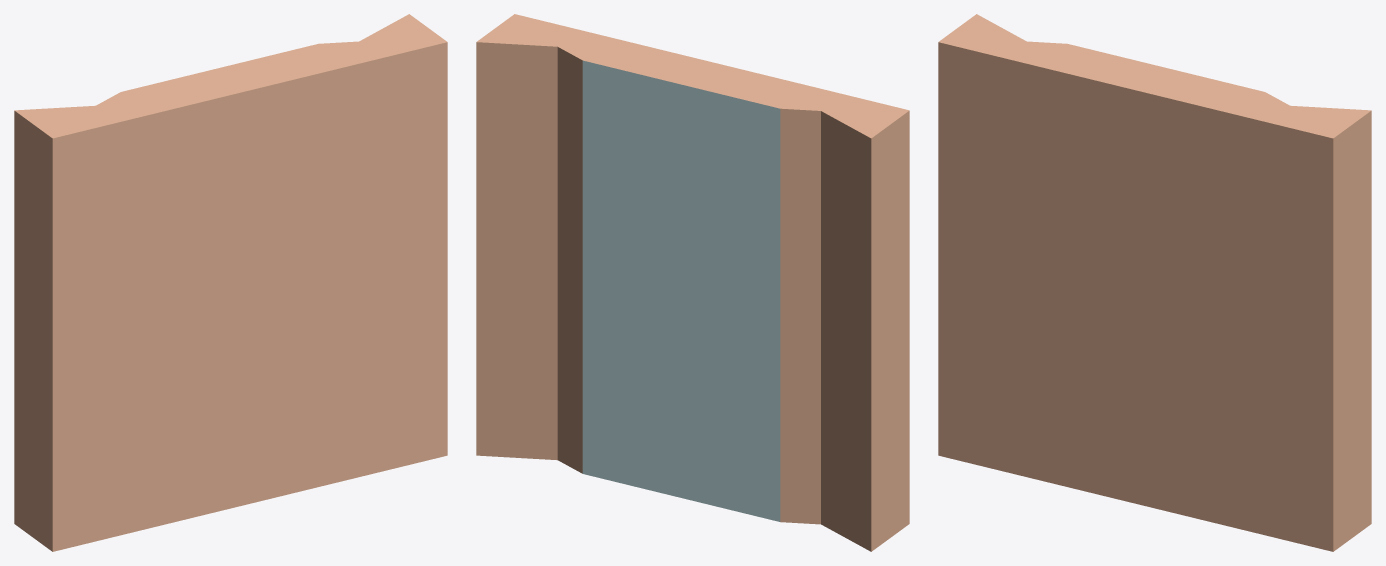
File: cliff_waterfall_rock.glb
The picture shows the model from 3 angles, left to right: view 1: azimuth 30°, elevation 25°; view 2: azimuth 150°, elevation 25°; view 3: azimuth 330°, elevation 25°; orthographic projection.
Visible parts, largest first — view 1: cliff_waterfall_rock; view 2: cliff_waterfall_rock; view 3: cliff_waterfall_rock.
Part boxes in pixels (x1,y1,x2,y2): cliff_waterfall_rock: (14, 14, 447, 551); cliff_waterfall_rock: (476, 14, 909, 551); cliff_waterfall_rock: (938, 14, 1371, 551).
Bounding box in the file's own units: 1.16 × 1.16 × 0.1957.
